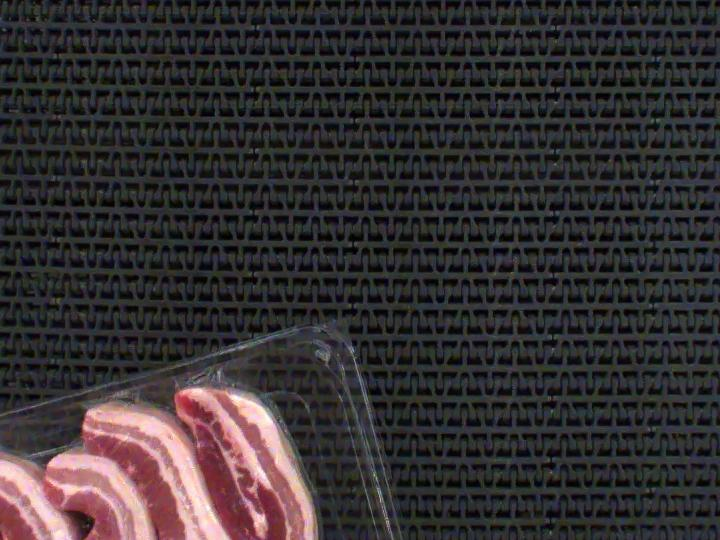packaging-error: (182, 352, 267, 415), (87, 382, 155, 413)
